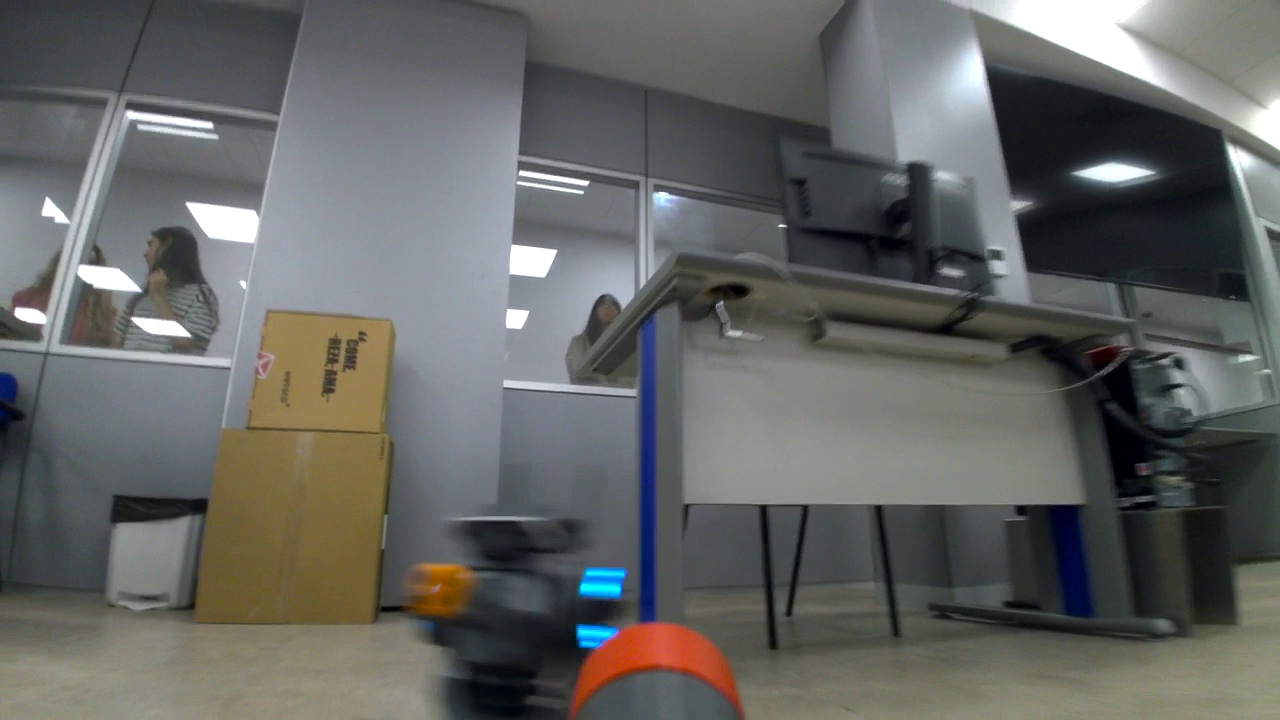robot: (401, 496, 636, 716)
